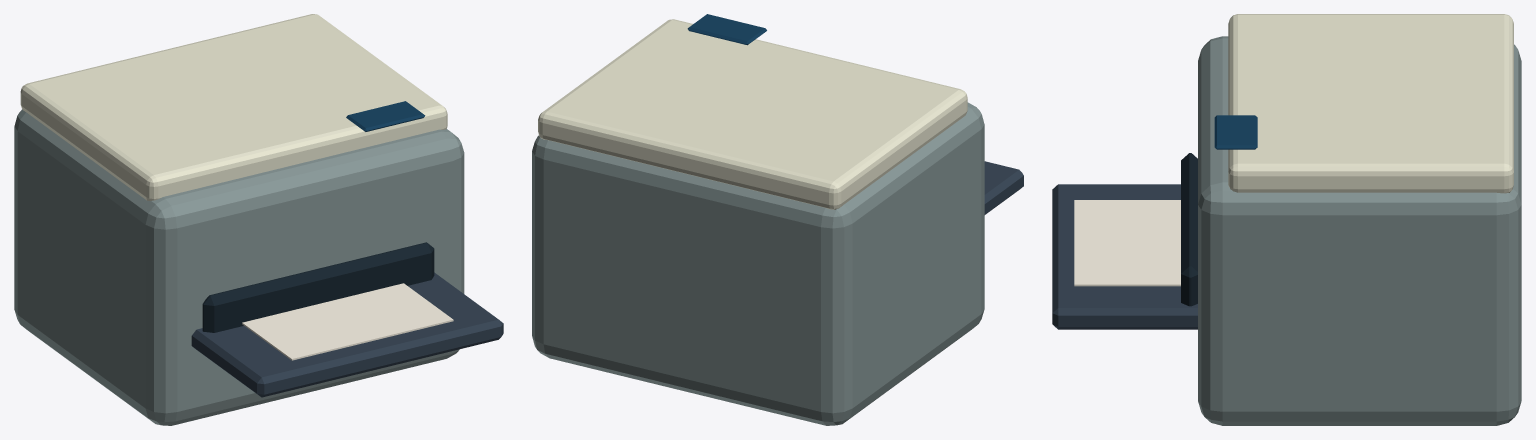
The model's file is printer.glb.
3 renders of one model, left to right at view 1: azimuth 30°, elevation 25°; view 2: azimuth 150°, elevation 25°; view 3: azimuth 270°, elevation 25°, orthographic. The views are drawn at different scales.
Parts seen in each view (by area): view 1: printer__metal_light, printer__paper, printer__metal, printer__black, printer__white, printer__screen; view 2: printer__metal_light, printer__paper, printer__metal, printer__screen; view 3: printer__metal_light, printer__paper, printer__metal, printer__white, printer__black, printer__screen.
Boxes of the visible parts, left/top/right/bottom form: printer__metal_light: left=14, top=109, right=464, bottom=425; printer__paper: left=20, top=14, right=447, bottom=200; printer__metal: left=191, top=272, right=503, bottom=397; printer__black: left=202, top=242, right=434, bottom=332; printer__white: left=242, top=283, right=453, bottom=360; printer__screen: left=346, top=101, right=425, bottom=131; printer__metal_light: left=532, top=102, right=984, bottom=425; printer__paper: left=538, top=19, right=967, bottom=209; printer__metal: left=984, top=161, right=1023, bottom=214; printer__screen: left=687, top=14, right=766, bottom=45; printer__metal_light: left=1198, top=36, right=1521, bottom=425; printer__paper: left=1228, top=14, right=1513, bottom=193; printer__metal: left=1052, top=184, right=1197, bottom=329; printer__white: left=1074, top=200, right=1180, bottom=286; printer__black: left=1181, top=153, right=1197, bottom=306; printer__screen: left=1214, top=115, right=1257, bottom=149.
Bounding box in the file's own units: 0.41 × 0.3105 × 0.493.
